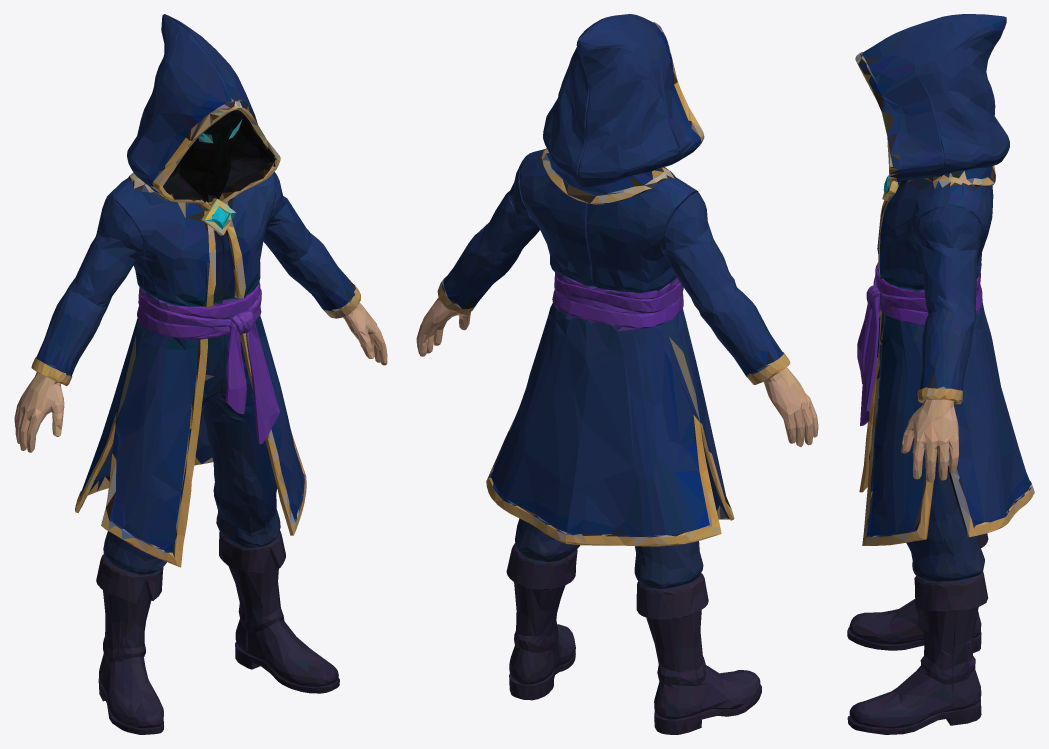
File: mage.glb
3 renders of one model, left to right at view 1: azimuth 30°, elevation 25°; view 2: azimuth 150°, elevation 25°; view 3: azimuth 270°, elevation 25°, orthographic. The views are drawn at different scales.
Parts seen in each view (by area): view 1: tripo_node_330c69e8; view 2: tripo_node_330c69e8; view 3: tripo_node_330c69e8.
Part boxes in pixels (x1,y1,x2,y2): tripo_node_330c69e8: (14, 14, 387, 734); tripo_node_330c69e8: (416, 14, 818, 734); tripo_node_330c69e8: (847, 14, 1034, 734).
Size of the model in its own units: 1.11 by 1.9 by 0.484.
